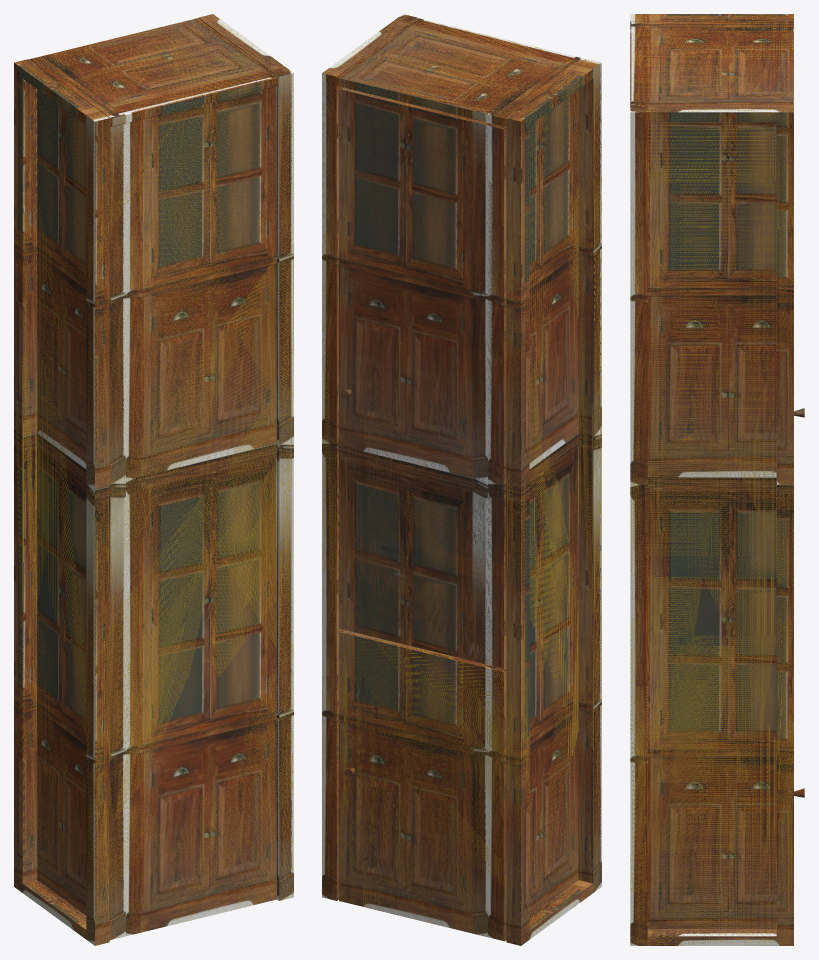
The picture shows the model from 3 angles, left to right: view 1: azimuth 30°, elevation 25°; view 2: azimuth 150°, elevation 25°; view 3: azimuth 270°, elevation 25°; orthographic projection.
Parts seen in each view (by area): view 1: mesh3_mesh3-geometry; view 2: mesh3_mesh3-geometry, mesh5_mesh5-geometry, mesh1_mesh1-geometry; view 3: mesh3_mesh3-geometry.
Part boxes in pixels (x1,y1,x2,y2): mesh3_mesh3-geometry: (14,14,293,945); mesh3_mesh3-geometry: (322,14,601,945); mesh5_mesh5-geometry: (339,87,506,668); mesh1_mesh1-geometry: (339,629,506,941); mesh3_mesh3-geometry: (630,14,793,945).
Size of the model in its own units: 0.241 by 0.9536 by 0.1807.
